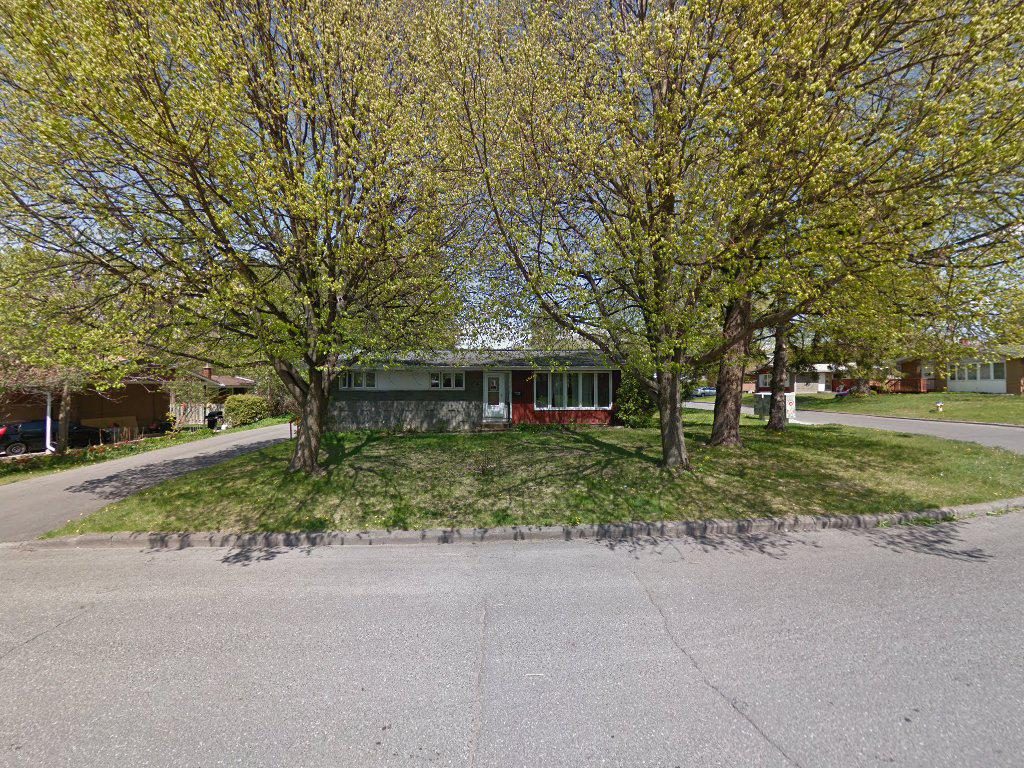trunk: (640, 296, 696, 480), (285, 360, 334, 483), (717, 280, 747, 454)
